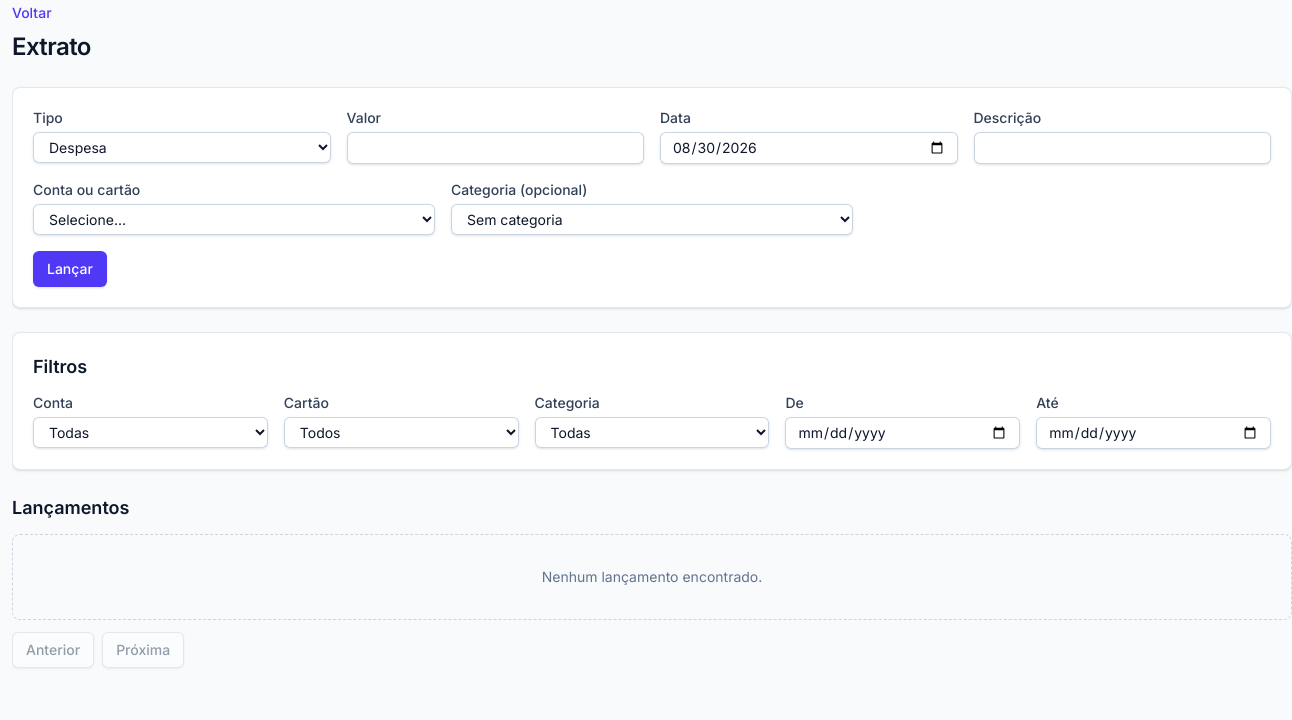
Test case: TransactionsPage › deletes a non-installment transaction directly
Step 1. Type "20" into the number field labelled "Valor" → (495, 148), box [346,132,644,164]
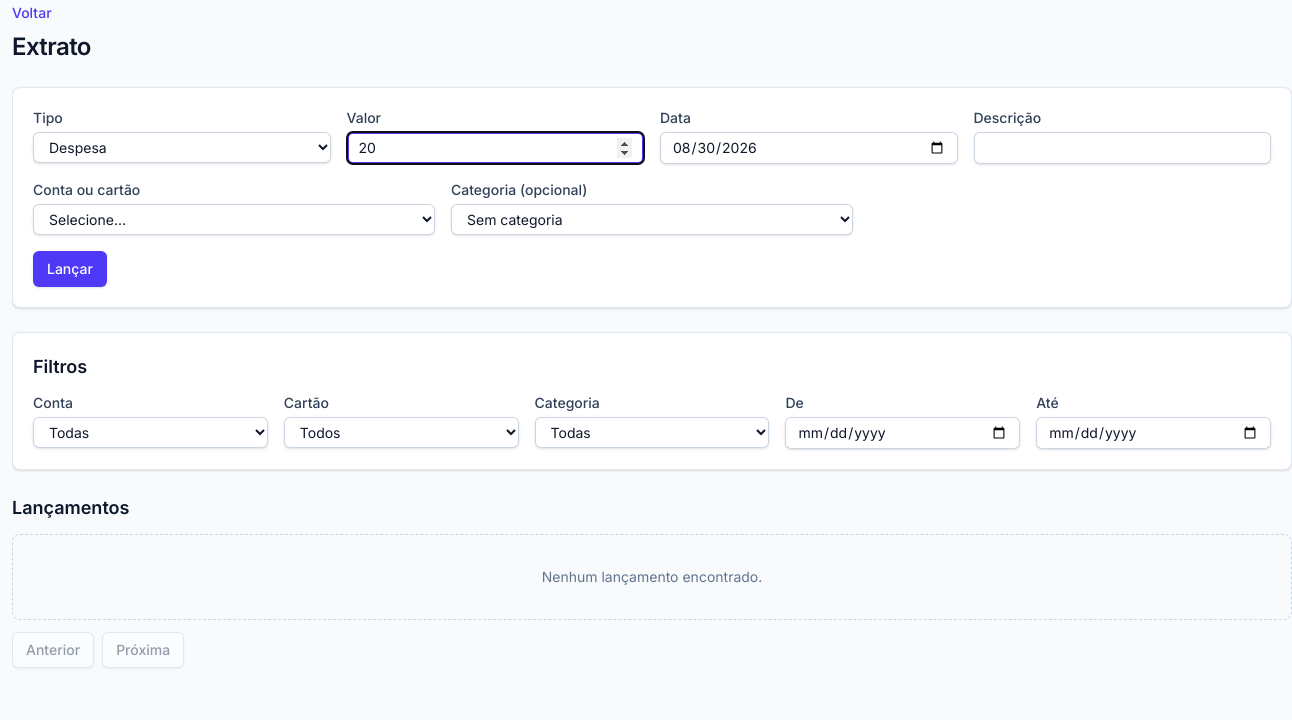
Step 2. Type "Para remover" into the field labelled "Descrição" → (1122, 148), box [974,132,1271,164]
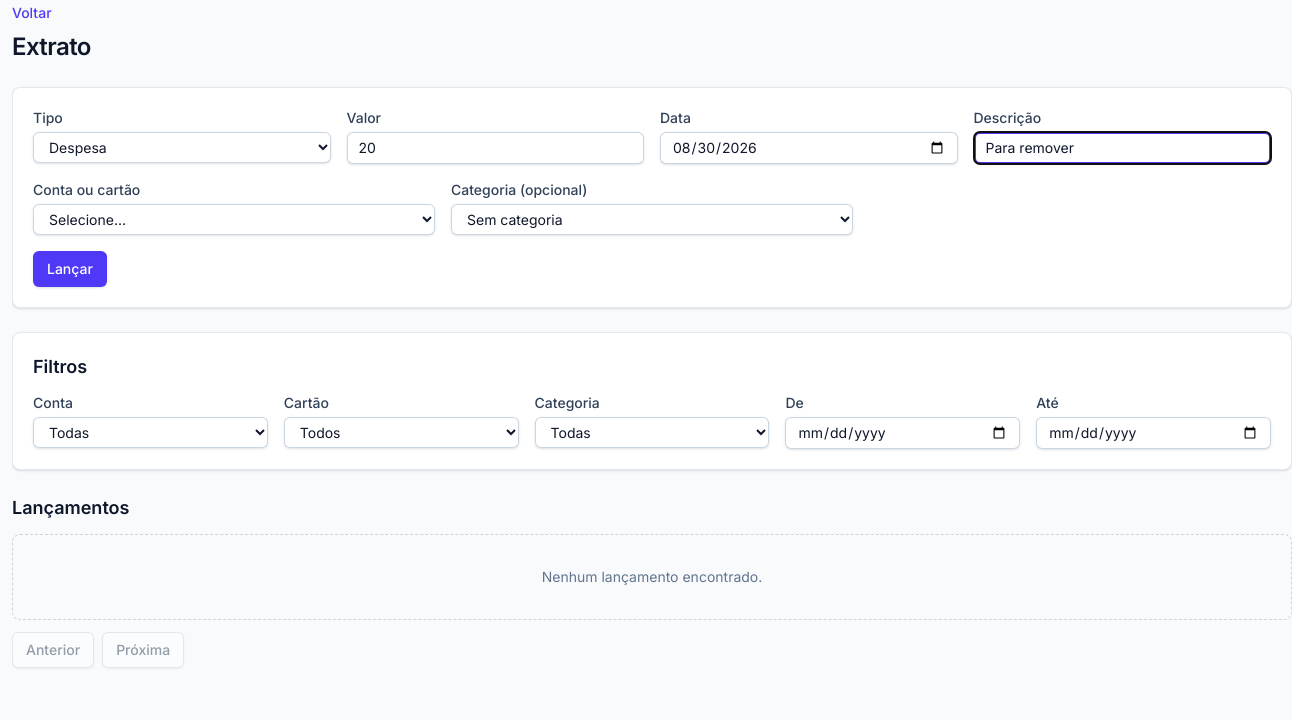
Step 3. Select "Conta Remover" in the dropdown labelled "Conta ou cartão" → (234, 220), box [33,204,435,235]
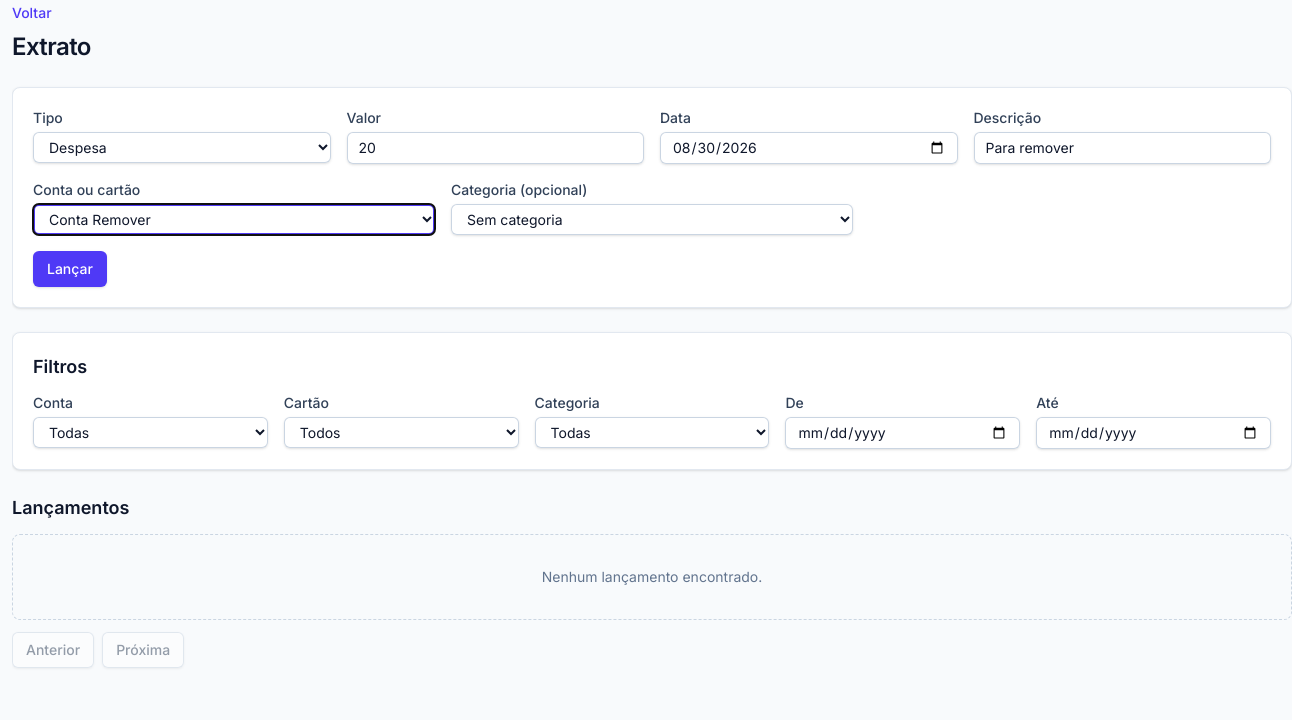
Step 4. Click the button "Lançar" → (70, 269), box [33,251,107,287]
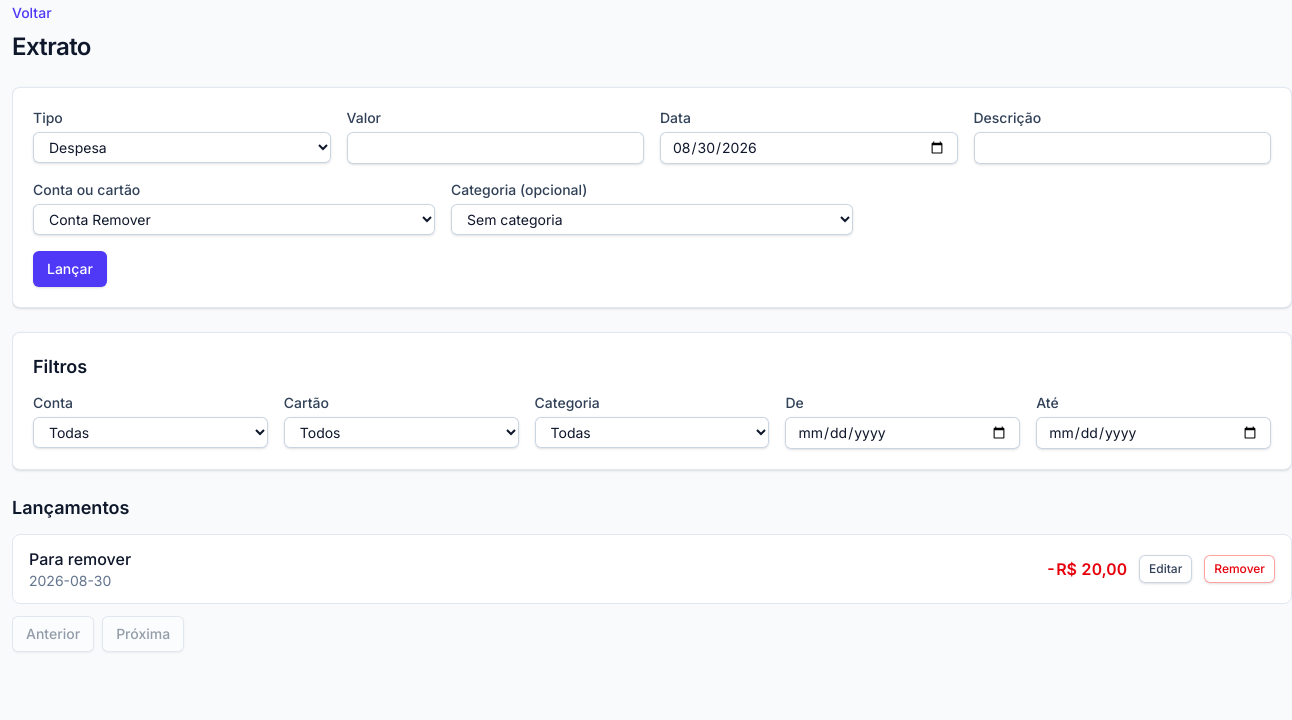
Check: the text "Para remover" is shown, box [29,547,131,571]
Step 5. Click the button "Remover" → (1240, 569), box [1204,555,1275,583]
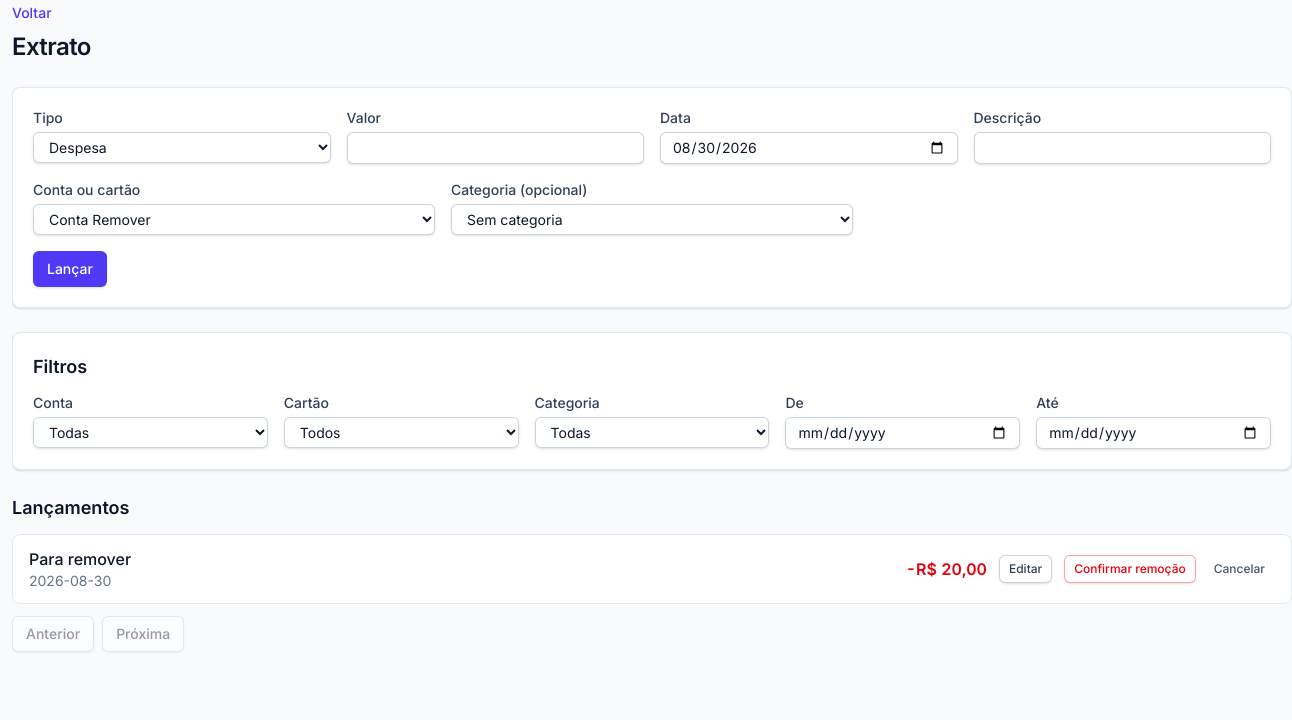
Step 6. Click the button "Confirmar remoção" → (1130, 569), box [1064,555,1196,583]
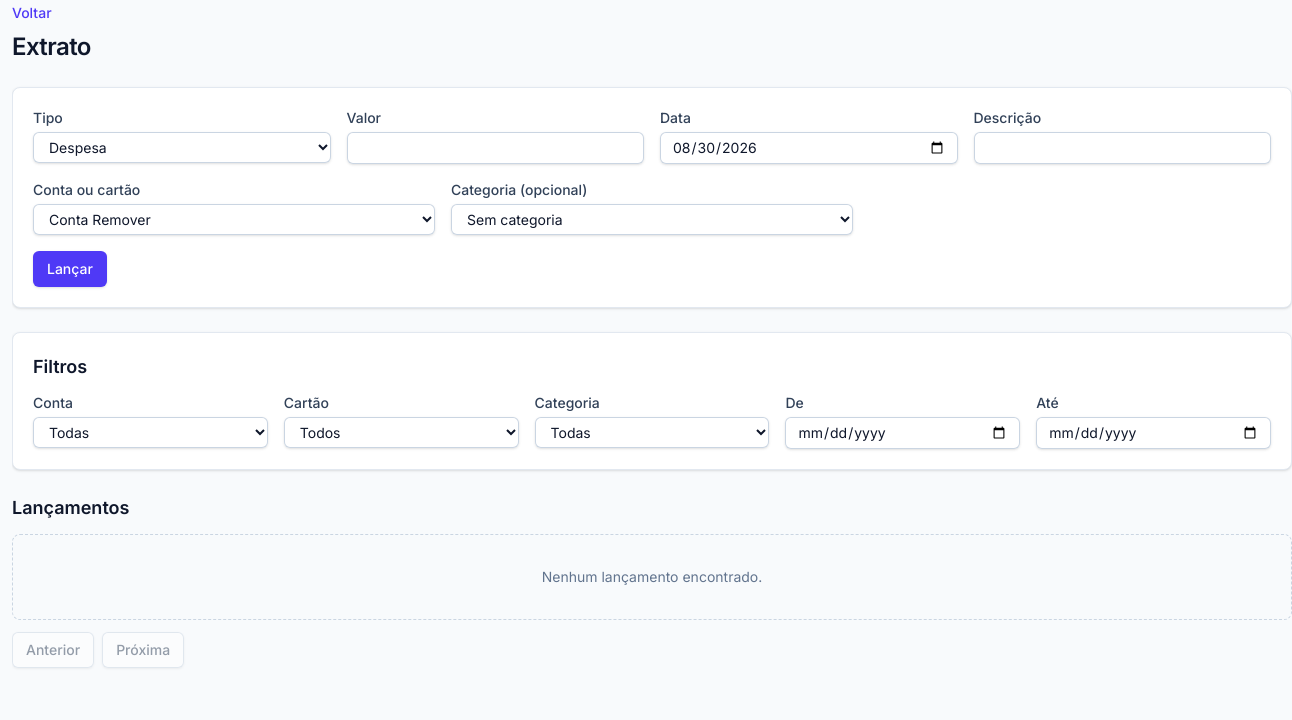
Check: the text "Nenhum lançamento encontrado." is shown, box [12,534,1291,620]
